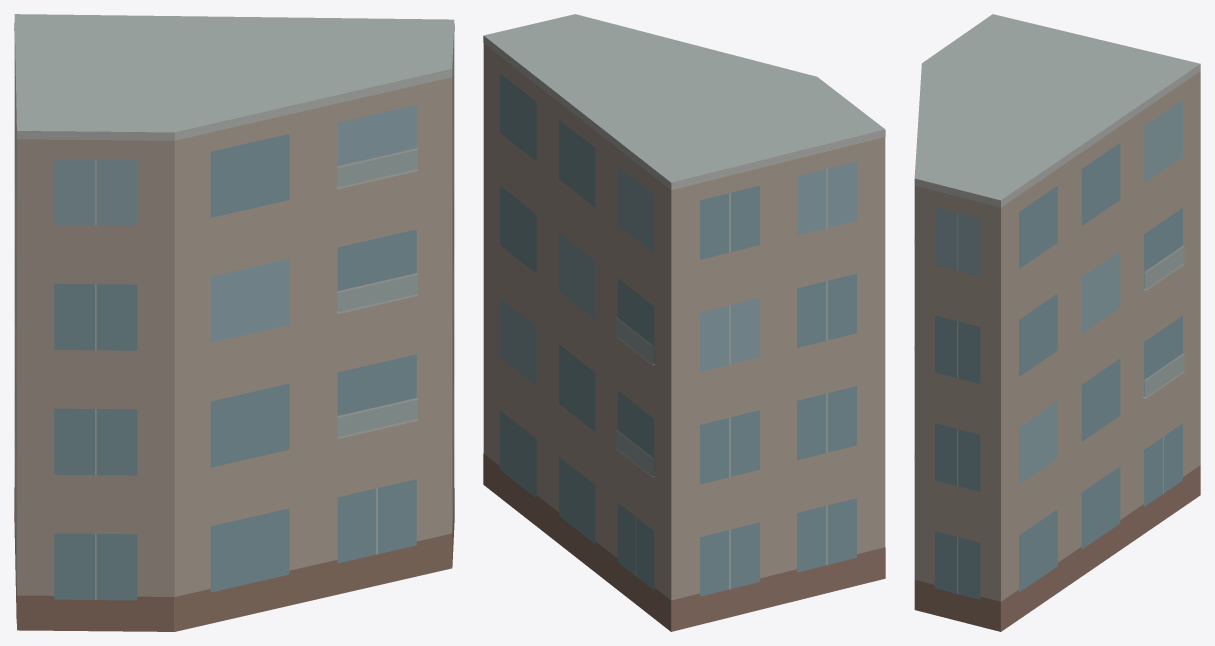
File: survey-upis-32471868.glb
3 renders of one model, left to right at view 1: azimuth 30°, elevation 25°; view 2: azimuth 150°, elevation 25°; view 3: azimuth 270°, elevation 25°, orthographic. The views are drawn at different scales.
Visible parts, largest first — view 1: survey-upis-32471868.tmp; view 2: survey-upis-32471868.tmp; view 3: survey-upis-32471868.tmp.
Boxes of the visible parts, <box> form: survey-upis-32471868.tmp: <box>14,14,454,631</box>; survey-upis-32471868.tmp: <box>483,14,885,631</box>; survey-upis-32471868.tmp: <box>914,14,1200,631</box>.
Size of the model in its own units: 13.54 by 14.6 by 8.79.
